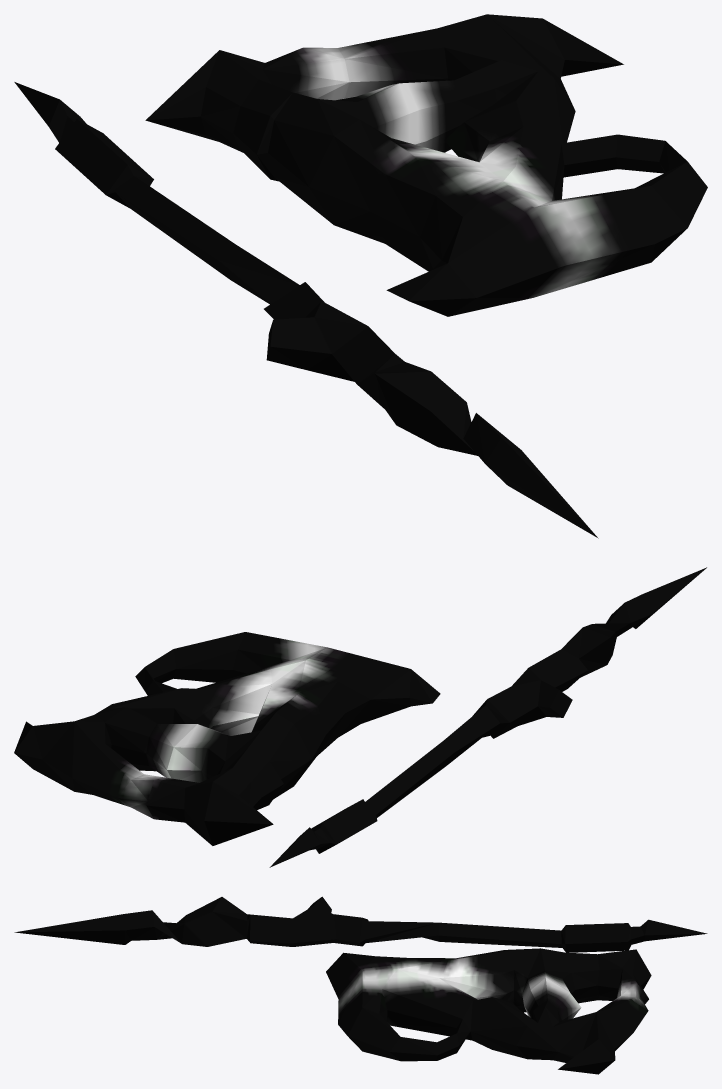
File: zimuren.obj
The picture shows the model from 3 angles, top to bottom: view 1: azimuth 30°, elevation 25°; view 2: azimuth 150°, elevation 25°; view 3: azimuth 270°, elevation 25°; orthographic projection. The views are drawn at different scales.
Visible parts, largest first — view 1: zimuren; view 2: zimuren; view 3: zimuren.
Boxes of the visible parts, x1,y1,x2,y2 form: zimuren: (14, 14, 707, 538); zimuren: (14, 567, 706, 867); zimuren: (14, 896, 707, 1074).
Size of the model in its own units: 158 by 29.12 by 292.
1 material, 1 textured.
